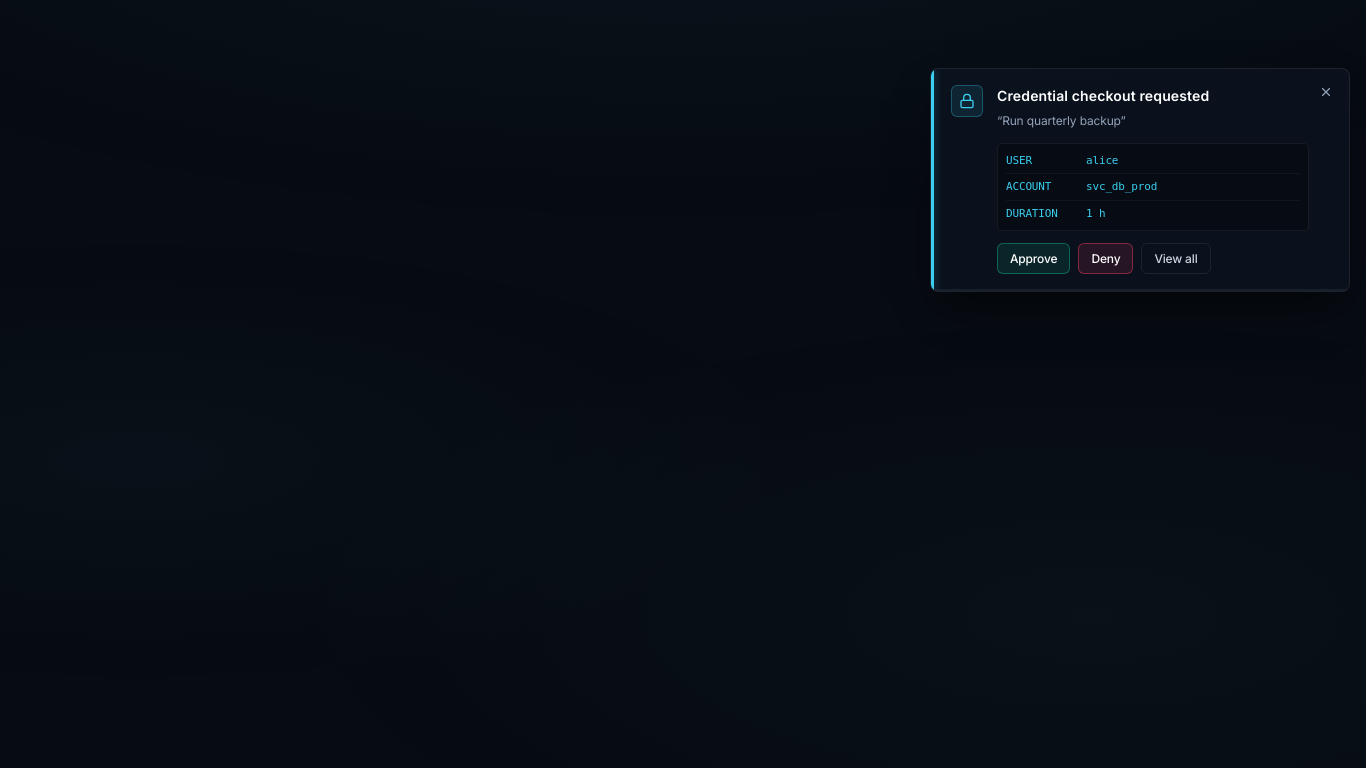
Test: PendingApprovalWatcher › approves a checkout inline and clears the card
The width and height of the screenshot is (1366, 768).
Expected: the text "Credential checkout requested" is shown, [997, 87, 1209, 104]
Click the button "Approve".
click(1034, 259)  # box [997, 243, 1070, 274]
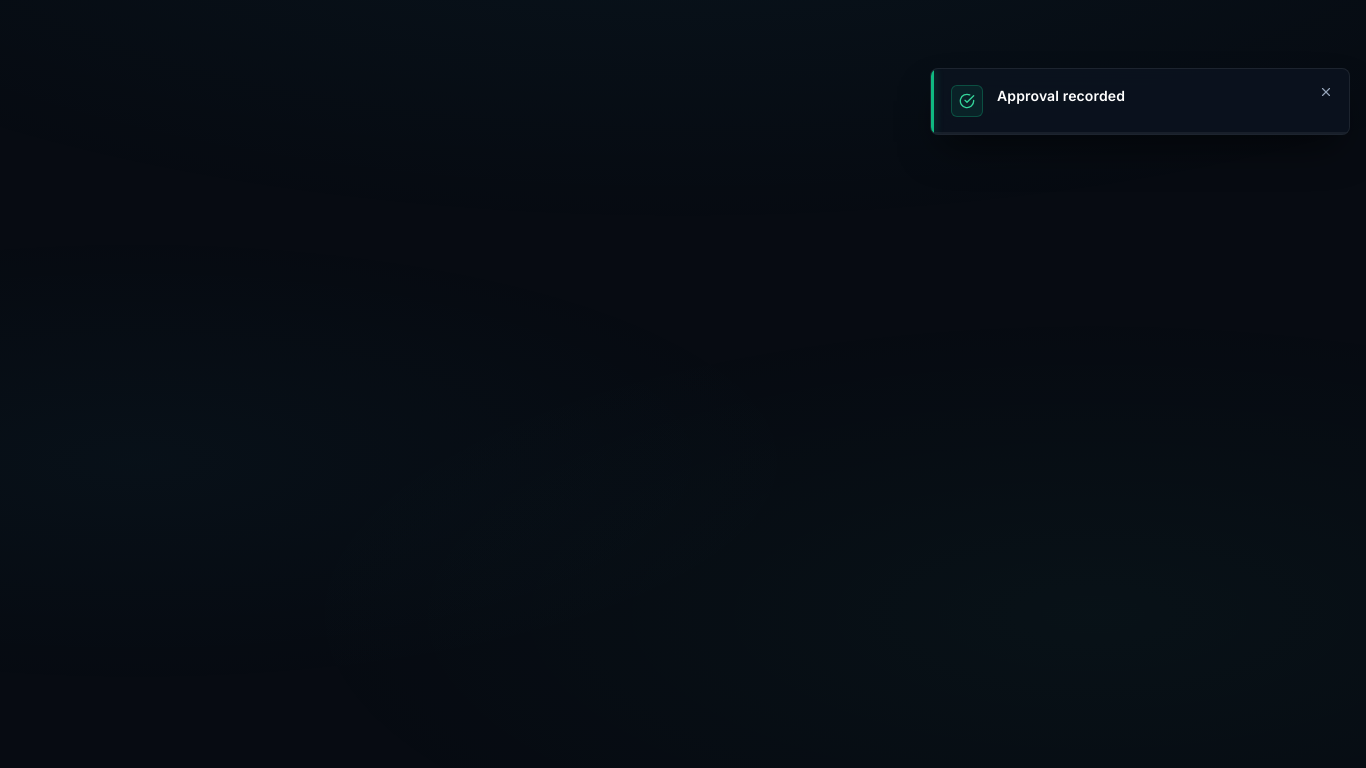
Expected: the text "Credential checkout requested" is gone
